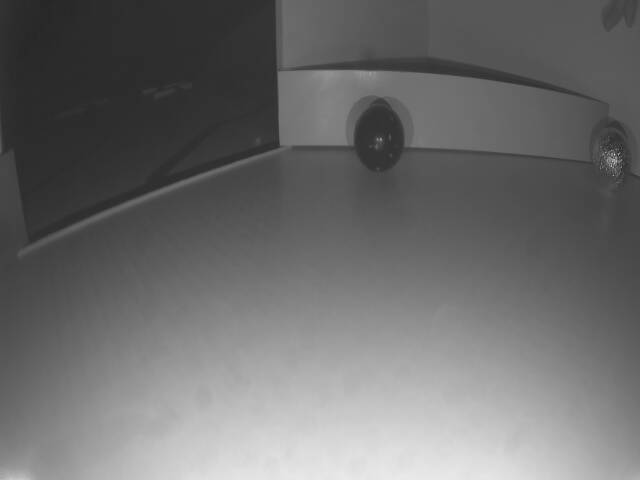Dead: (353, 107, 408, 175)
Live: (592, 127, 632, 194)
Red: (276, 70, 612, 166)
